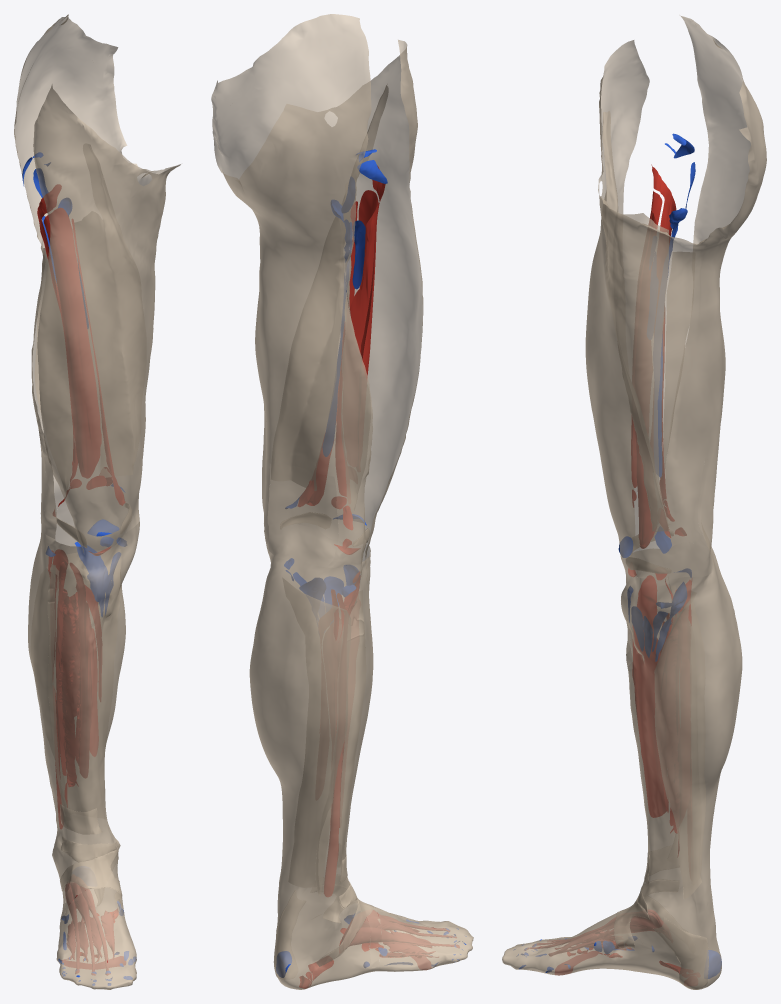
Rendered from muscular.lower_limb_right.glb.
3 renders of one model, left to right at view 1: azimuth 30°, elevation 25°; view 2: azimuth 150°, elevation 25°; view 3: azimuth 270°, elevation 25°, orthographic. The views are drawn at different scales.
Parts seen in each view (by area): view 1: right_fascia_lata, right_crural_fascia, right_medial_femoral_intermuscular_septum, right_vastus_intermedius_muscle_origin_femur, right_lateral_femoral_intermuscular_septum, right_transverse_intermuscular_septum_of_leg, right_tibialis_anterior_muscle_origin_interosseous_membrane_, right_posterior_intermuscular_septum_of_leg, right_superior_fibular_retinaculum, right_popliteal_fascia, right_extensor_digitorum_brevis, right_extensor_digitorum_longus_origin_fibula (+13 smaller); view 2: right_fascia_lata, right_crural_fascia, right_medial_femoral_intermuscular_septum, right_transverse_intermuscular_septum_of_leg, right_popliteal_fascia, right_lateral_femoral_intermuscular_septum, right_anterior_intermuscular_septum_of_leg, right_posterior_intermuscular_septum_of_leg, right_vastus_lateralis_muscle_origin_femur, right_extensor_digitorum_brevis, right_plantar_aponeurosis, right_vastus_intermedius_muscle_origin_femur (+8 smaller); view 3: right_fascia_lata, right_crural_fascia, right_medial_femoral_intermuscular_septum, right_transverse_intermuscular_septum_of_leg, right_tibialis_anterior_muscle_origin_interosseous_membrane_, right_lateral_femoral_intermuscular_septum, right_flexor_retinaculum_of_ankle, right_posterior_intermuscular_septum_of_leg, right_superior_fibular_retinaculum, right_popliteal_fascia, right_vastus_medialis_muscle_origin_femur, right_plantar_aponeurosis (+5 smaller).
Part boxes in pixels (x1,y1,x2,y2): right_fascia_lata: [14, 14, 180, 552]; right_crural_fascia: [28, 501, 139, 989]; right_medial_femoral_intermuscular_septum: [73, 144, 145, 477]; right_vastus_intermedius_muscle_origin_femur: [44, 208, 101, 478]; right_lateral_femoral_intermuscular_septum: [34, 248, 72, 494]; right_transverse_intermuscular_septum_of_leg: [47, 549, 120, 818]; right_tibialis_anterior_muscle_origin_interosseous_membrane_: [70, 563, 93, 778]; right_posterior_intermuscular_septum_of_leg: [31, 568, 64, 792]; right_superior_fibular_retinaculum: [60, 849, 122, 900]; right_popliteal_fascia: [43, 433, 100, 512]; right_extensor_digitorum_brevis: [65, 882, 110, 975]; right_extensor_digitorum_longus_origin_fibula: [56, 562, 67, 775]; right_fascia_lata: [211, 14, 423, 567]; right_crural_fascia: [249, 524, 473, 989]; right_medial_femoral_intermuscular_septum: [271, 83, 388, 490]; right_transverse_intermuscular_septum_of_leg: [283, 579, 345, 887]; right_popliteal_fascia: [267, 463, 338, 567]; right_lateral_femoral_intermuscular_septum: [341, 254, 370, 509]; right_anterior_intermuscular_septum_of_leg: [340, 590, 365, 859]; right_posterior_intermuscular_septum_of_leg: [316, 611, 350, 895]; right_vastus_lateralis_muscle_origin_femur: [350, 165, 385, 354]; right_extensor_digitorum_brevis: [341, 910, 459, 947]; right_plantar_aponeurosis: [295, 943, 418, 986]; right_vastus_intermedius_muscle_origin_femur: [358, 190, 378, 379]; right_fascia_lata: [585, 15, 766, 578]; right_crural_fascia: [502, 543, 742, 989]; right_medial_femoral_intermuscular_septum: [602, 111, 668, 530]; right_transverse_intermuscular_septum_of_leg: [654, 591, 701, 898]; right_tibialis_anterior_muscle_origin_interosseous_membrane_: [632, 575, 666, 817]; right_lateral_femoral_intermuscular_septum: [663, 252, 694, 505]; right_flexor_retinaculum_of_ankle: [653, 917, 708, 989]; right_posterior_intermuscular_septum_of_leg: [691, 602, 705, 873]; right_superior_fibular_retinaculum: [614, 896, 686, 948]; right_popliteal_fascia: [698, 459, 715, 575]; right_vastus_medialis_muscle_origin_femur: [635, 212, 656, 548]; right_plantar_aponeurosis: [562, 956, 678, 981].
Size of the model in its own units: 0.1711 by 1.02 by 0.2568.
